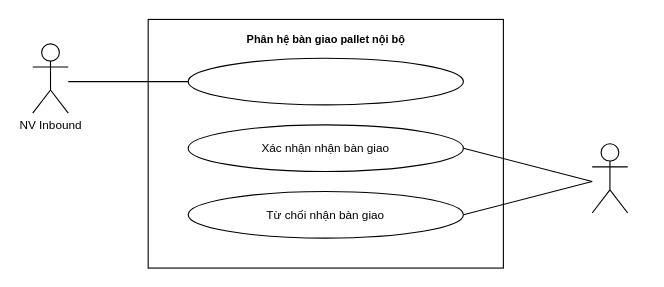
The diagram is 664 pixels wide and 287 high, and some of its shapes have lost their labels. The box of each missing label's shape, as (x1, y1, x2, y2) in pixels:
NV Outbound: (591, 143, 628, 213)
Yêu cầu bàn giao pallet: (187, 57, 463, 105)
